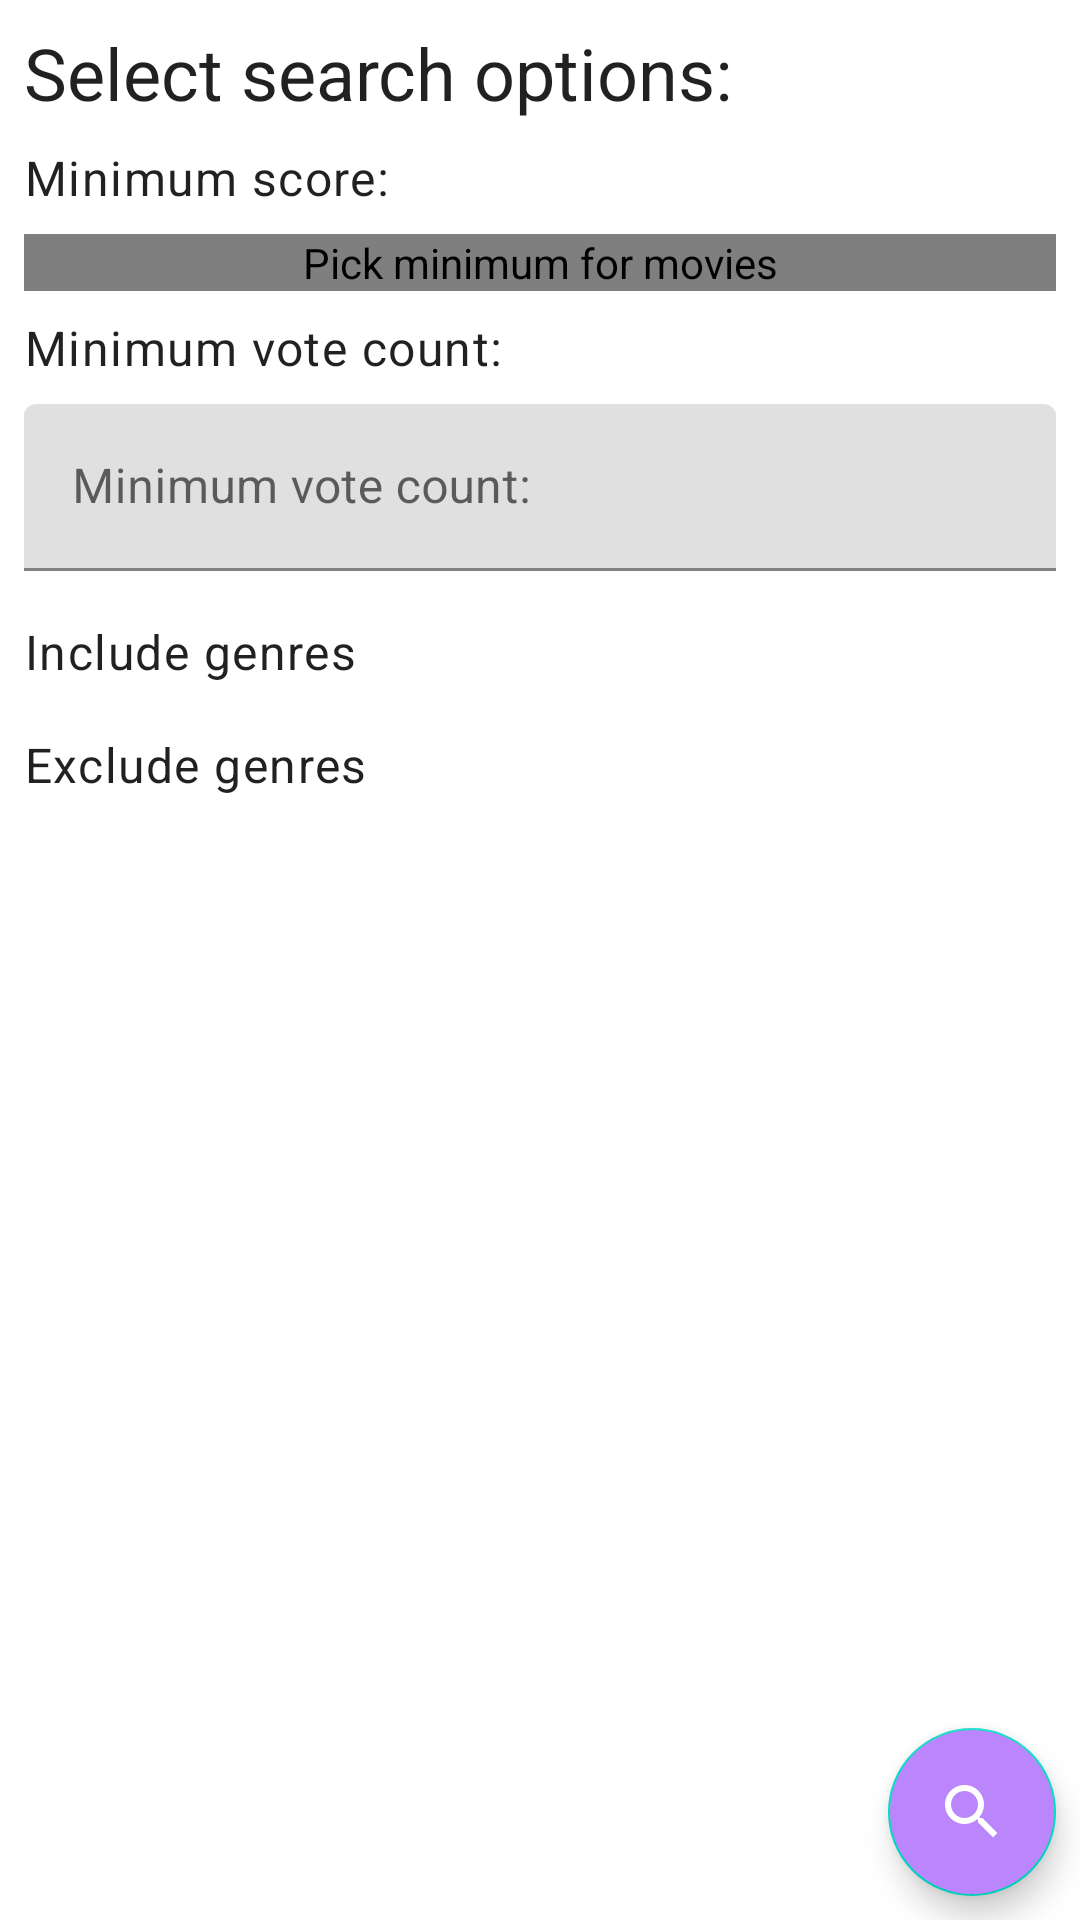

Screen size 1080*1920. Icon name, then its center in pixels as point (x, y):
Search: point (972, 1812)
